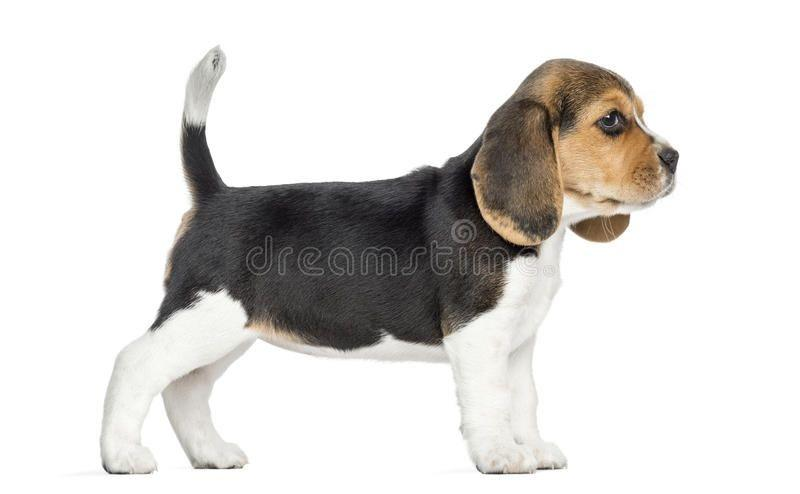puppy-dog: (103, 44, 682, 473)
